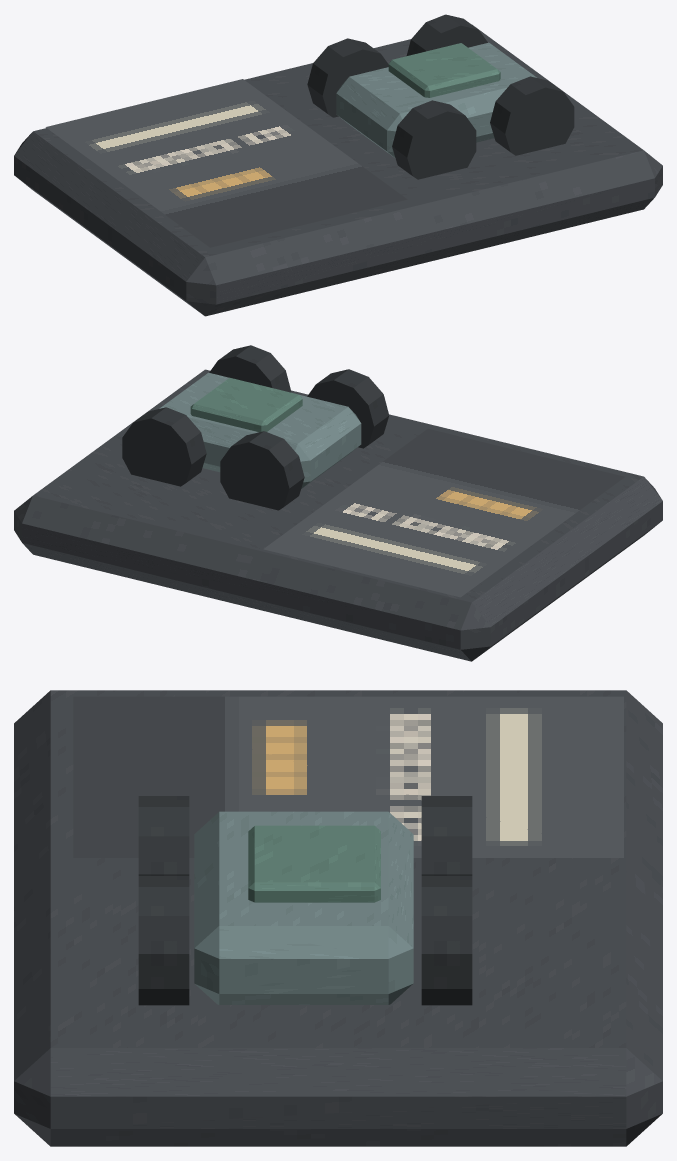
The model's file is engineering_robotics_kit.glb.
The picture shows the model from 3 angles, top to bottom: view 1: azimuth 30°, elevation 25°; view 2: azimuth 150°, elevation 25°; view 3: azimuth 270°, elevation 25°; orthographic projection. The views are drawn at different scales.
Visible parts, largest first — view 1: block_equipment tray, block_lid label, block_robot wheel (×4), block_small robot chassis, block_robot control board; view 2: block_equipment tray, block_lid label, block_robot wheel (×4), block_small robot chassis, block_robot control board; view 3: block_equipment tray, block_lid label, block_small robot chassis, block_robot wheel (×4), block_robot control board.
Part boxes in pixels (bbox=[...]): block_equipment tray: bbox=[14, 24, 662, 316]; block_lid label: bbox=[45, 79, 407, 247]; block_robot wheel (×4): bbox=[307, 14, 574, 179]; block_small robot chassis: bbox=[336, 42, 536, 158]; block_robot control board: bbox=[388, 43, 500, 97]; block_equipment tray: bbox=[14, 369, 662, 661]; block_lid label: bbox=[263, 428, 624, 597]; block_robot wheel (×4): bbox=[122, 345, 389, 510]; block_small robot chassis: bbox=[159, 372, 361, 488]; block_robot control board: bbox=[190, 378, 302, 432]; block_equipment tray: bbox=[14, 690, 662, 1146]; block_lid label: bbox=[73, 696, 623, 857]; block_small robot chassis: bbox=[194, 811, 413, 1004]; block_robot wheel (×4): bbox=[138, 796, 472, 1005]; block_robot control board: bbox=[248, 825, 380, 902].
Size of the model in its own units: 0.2186 by 0.0527 by 0.1542.
1 material, 1 textured.
